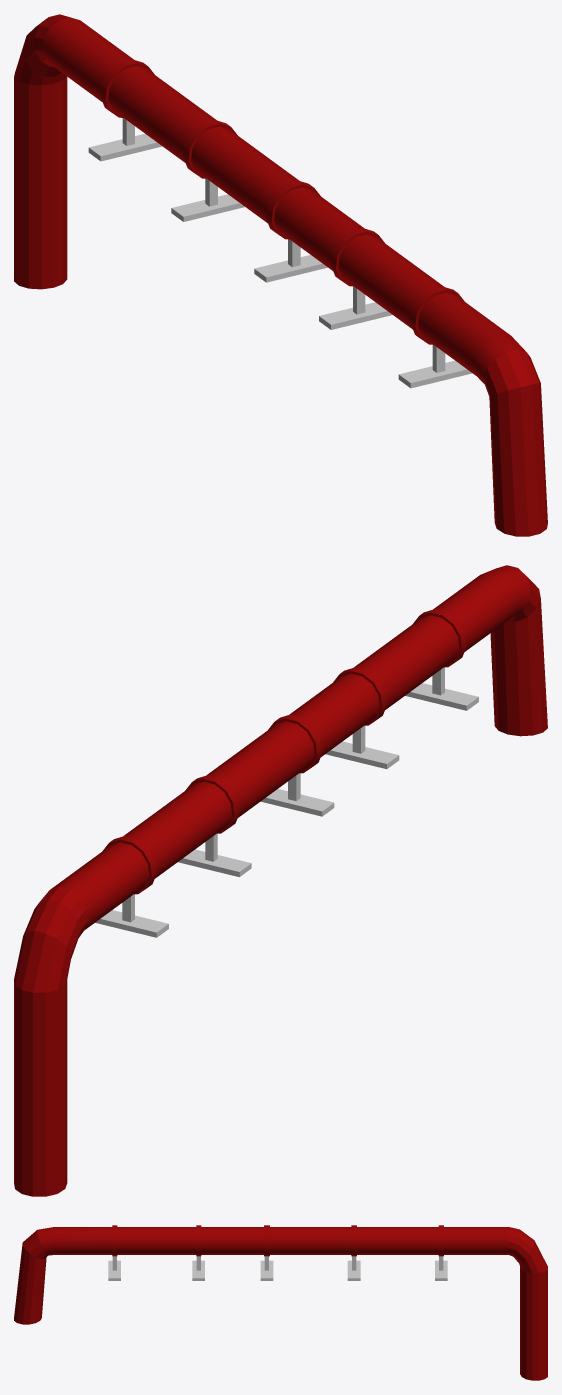
Rendered from tuyau_cote.fbx.
3 views of the same model, one above another, from view 1: azimuth 30°, elevation 25°; view 2: azimuth 150°, elevation 25°; view 3: azimuth 270°, elevation 25° (orthographic). The views are drawn at different scales.
Visible parts, largest first — view 1: tuyau_cote; view 2: tuyau_cote; view 3: tuyau_cote.
Boxes of the visible parts, bbox=[...] form: tuyau_cote: bbox=[14, 14, 547, 536]; tuyau_cote: bbox=[14, 565, 547, 1196]; tuyau_cote: bbox=[14, 1225, 547, 1380].
Bounding box in the file's own units: 51.02 × 202 × 656.
